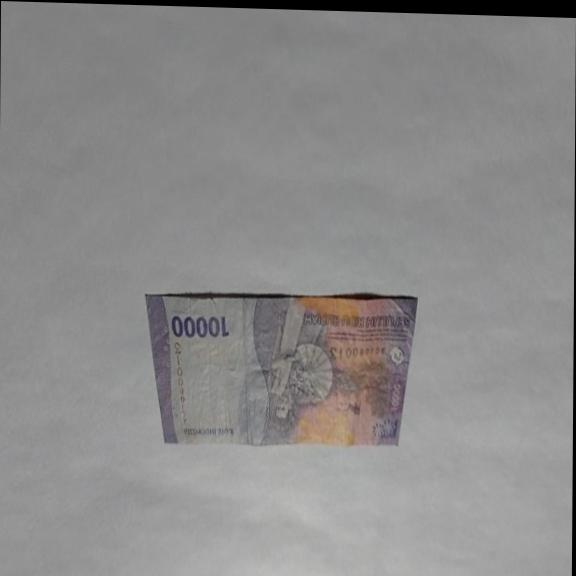Kertas: (143, 286, 418, 453), (170, 312, 230, 341)
